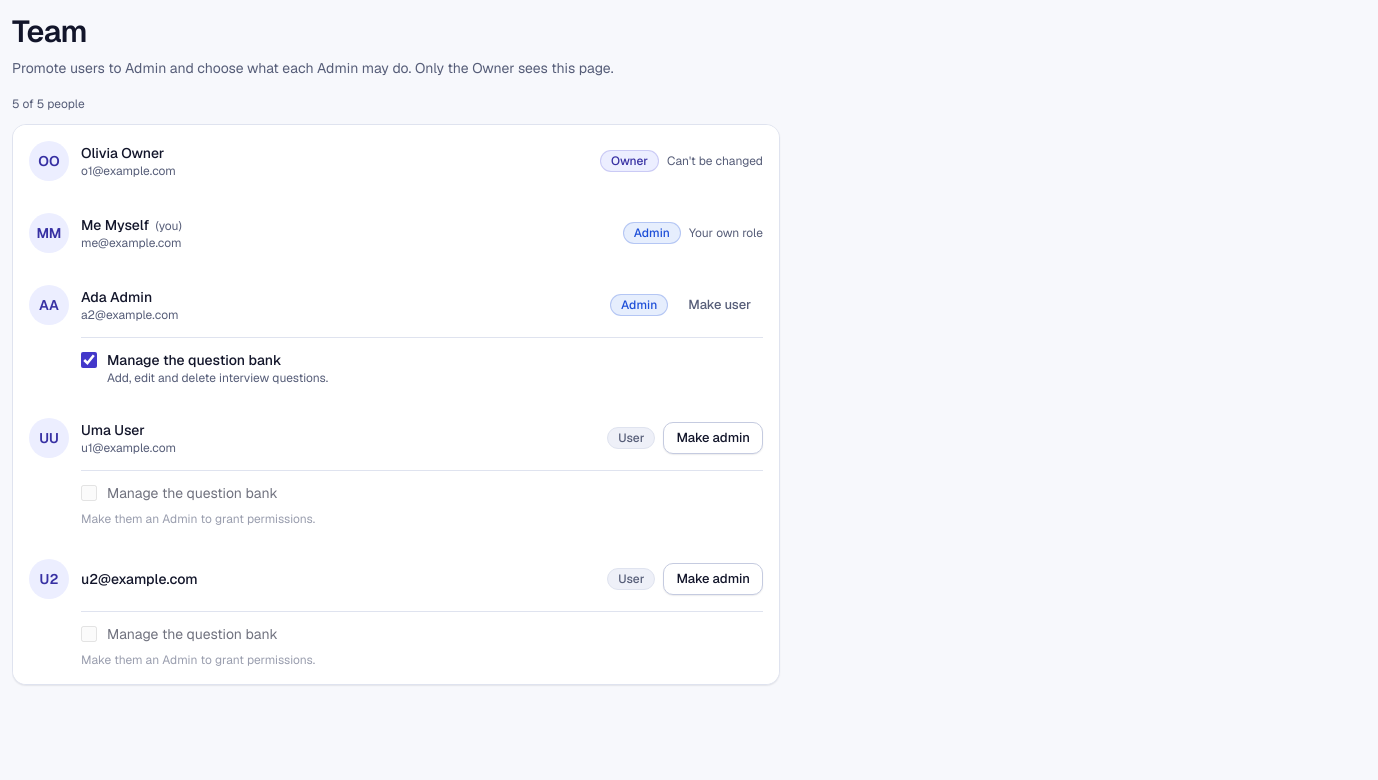
TeamManager › toggles a permission, sending the full list, and confirms
Expected: the text "Ada Admin" is shown, [81,288,152,306]
Click the checkbox labelled "Manage the question bank" at (89, 360), box [81,352,97,368]
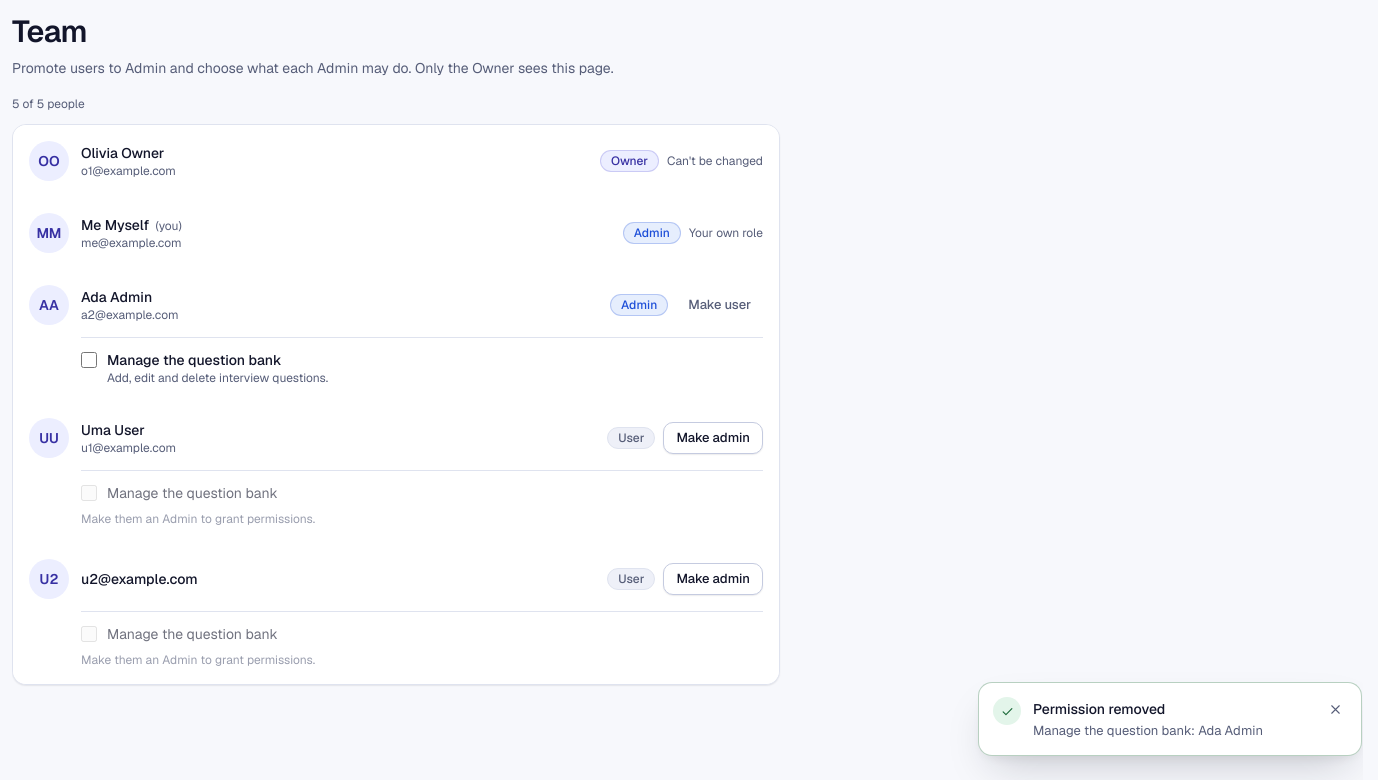
Result: the checkbox labelled "Manage the question bank" is not checked at [81,352,97,368]
Result: the text "Permission removed" is shown at [1033,700,1165,718]
